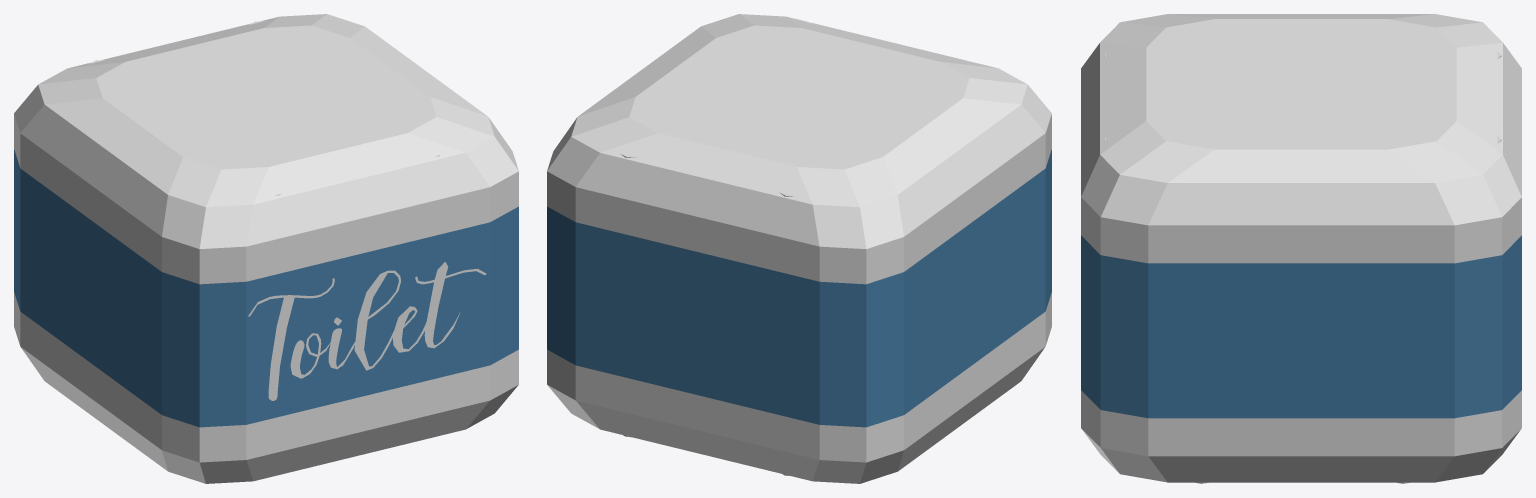
Rendered from Ma_Paper_Toilet_1.fbx.
The picture shows the model from 3 angles, left to right: view 1: azimuth 30°, elevation 25°; view 2: azimuth 150°, elevation 25°; view 3: azimuth 270°, elevation 25°; orthographic projection. The views are drawn at different scales.
Parts seen in each view (by area): view 1: Ma_Paper_Toilet_1; view 2: Ma_Paper_Toilet_1; view 3: Ma_Paper_Toilet_1.
Part boxes in pixels (<box>): Ma_Paper_Toilet_1: <box>14,14,518,483</box>; Ma_Paper_Toilet_1: <box>547,14,1051,483</box>; Ma_Paper_Toilet_1: <box>1081,14,1521,483</box>.
Size of the model in its own units: 265 by 267 by 219.
